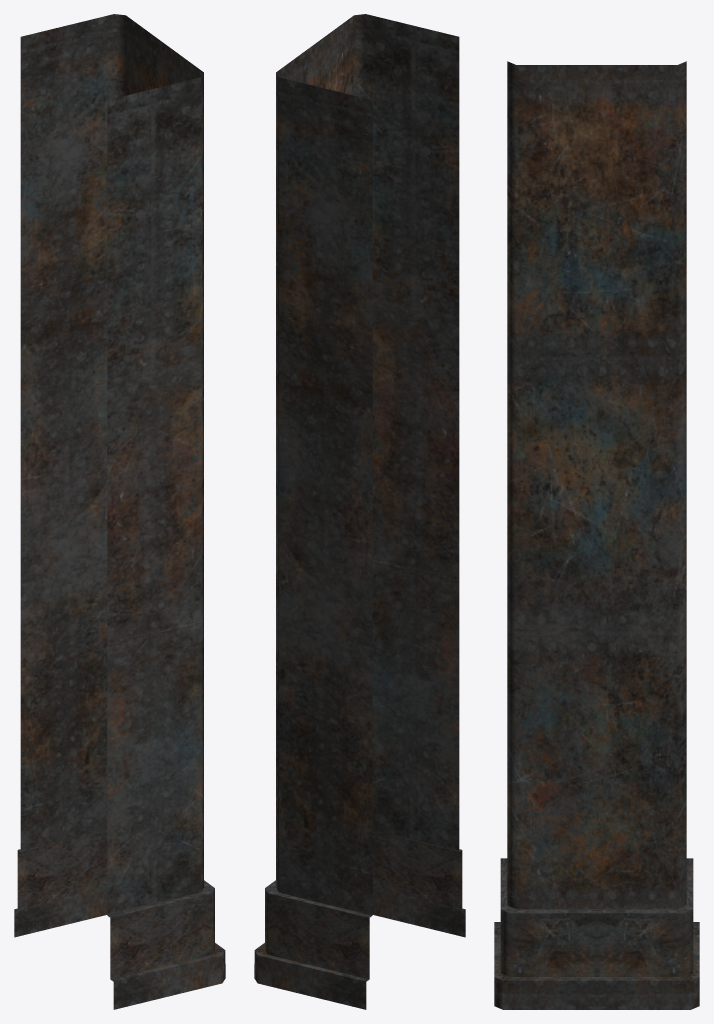
File: Basement_Corridor_C_Pillar_A.glb
The picture shows the model from 3 angles, left to right: view 1: azimuth 30°, elevation 25°; view 2: azimuth 150°, elevation 25°; view 3: azimuth 270°, elevation 25°; orthographic projection. The views are drawn at different scales.
Parts seen in each view (by area): view 1: Basement_Corridor_C_Pillar_A; view 2: Basement_Corridor_C_Pillar_A; view 3: Basement_Corridor_C_Pillar_A.
Part boxes in pixels (x1,y1,x2,y2): Basement_Corridor_C_Pillar_A: (14,14,225,1009); Basement_Corridor_C_Pillar_A: (254,14,465,1009); Basement_Corridor_C_Pillar_A: (494,61,699,1009).
Bounding box in the file's own units: 0.4032 × 3 × 0.595.
1 material, 1 textured.
